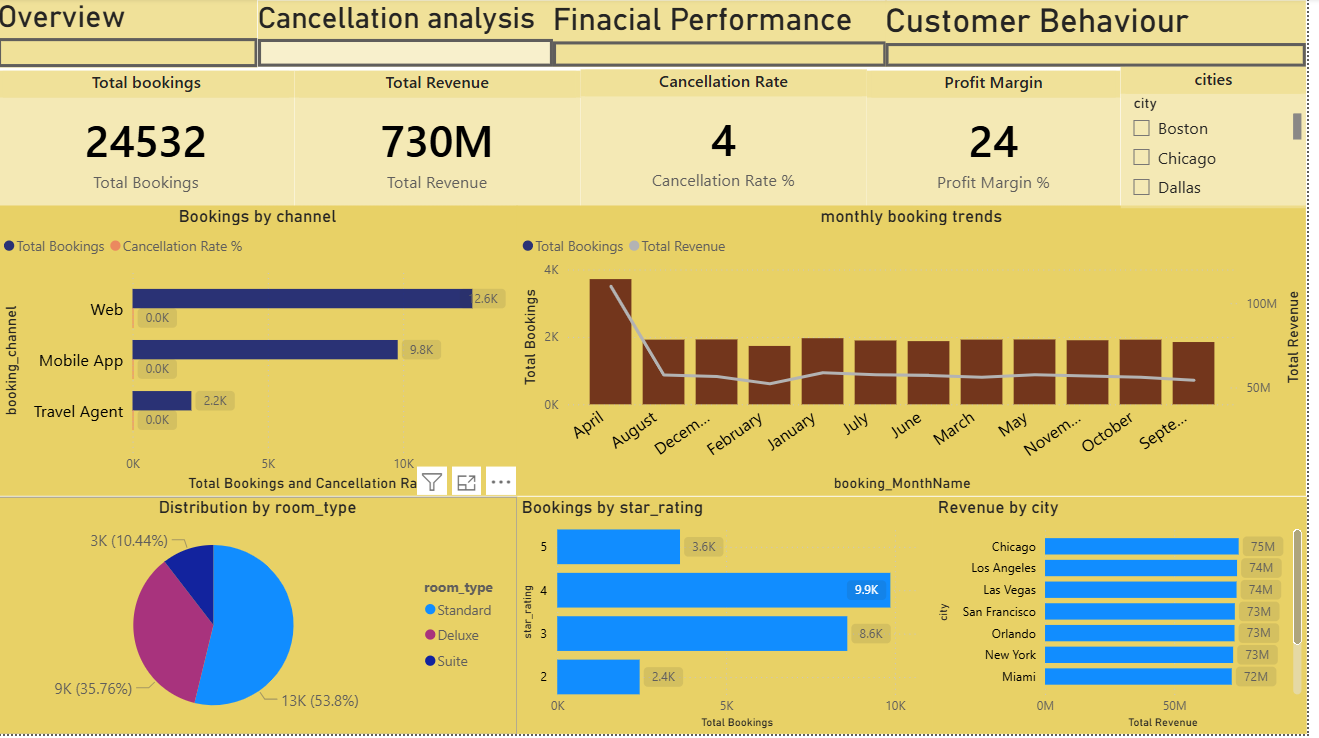

Layout of this report page (visuals, bound fields, positions):
{"tool":"powerbi","page":{"name":"Overview","canvas":[1280,720],"ordinal":0},"visuals":[{"type":"card","title":"Total bookings","fields":{"Values":["_Measures.Total Bookings"]},"box":[0,70.7,290,135.6],"z":0},{"type":"card","title":"Total Revenue","fields":{"Values":["_Measures.Total Revenue"]},"box":[290,70.7,279.9,135.6],"z":1000},{"type":"card","title":"Cancellation Rate","fields":{"Values":["_Measures.Cancellation Rate %"]},"box":[569.9,69.3,279.9,135.6],"z":2000},{"type":"card","title":"Profit Margin","fields":{"Values":["_Measures.Profit Margin %"]},"box":[849.8,70.7,248.2,135.6],"z":3000},{"type":"clusteredBarChart","title":"Bookings  by  channel","fields":{"Y":["_Measures.Total Bookings","_Measures.Cancellation Rate %"],"Category":["Hotels Booking.booking_channel"]},"box":[0,203.4,507.9,284.2],"z":4000},{"type":"pieChart","title":"Distribution by room_type","fields":{"Y":["_Measures.Total Bookings"],"Category":["Hotels Booking.room_type"]},"box":[0,487.7,507.9,232.3],"z":5000},{"type":"lineClusteredColumnComboChart","title":"monthly booking trends","fields":{"Y2":["_Measures.Total Revenue"],"Y":["_Measures.Total Bookings"],"Category":["Hotels Booking.booking_MonthName"]},"box":[507.9,203.4,771.9,284.2],"z":6000},{"type":"clusteredBarChart","title":" Bookings by star_rating","fields":{"Category":["Hotels Booking.star_rating"],"Y":["_Measures.Total Bookings"]},"box":[507.9,487.7,406.9,232.3],"z":7000},{"type":"clusteredBarChart","title":" Revenue by city","fields":{"Category":["Hotels Booking.city"],"Y":["_Measures.Total Revenue"]},"box":[914.7,487.9,365.6,232.3],"z":8000},{"type":"slicer","title":"cities","fields":{"Values":["Hotels Booking.city"]},"box":[1097.9,67.8,181.8,138.5],"z":9000},{"type":"actionButton","title":"Cancellation analysis","box":[253.9,2.9,288.6,64.9],"z":9002},{"type":"actionButton","title":"Finacial Performance","box":[542.5,2.9,326.1,64.9],"z":9003},{"type":"actionButton","title":"Customer Behaviour","box":[868.5,2.9,411.2,64.9],"z":9004},{"type":"actionButton","title":"Overview","box":[0,0,253.9,67.8],"z":9005}]}

Visuals, with their boxes in screenshot pixels (x1, y1, x2, y2), scaled from the page's 1280x720 canvas onto the 1319x738 screenshot:
"Total bookings" card: pyautogui.locateOnScreen(0, 72, 299, 211)
"Total Revenue" card: pyautogui.locateOnScreen(299, 72, 587, 211)
"Cancellation Rate" card: pyautogui.locateOnScreen(587, 71, 876, 210)
"Profit Margin" card: pyautogui.locateOnScreen(876, 72, 1131, 211)
"Bookings  by  channel" clusteredBarChart: pyautogui.locateOnScreen(0, 208, 523, 500)
"Distribution by room_type" pieChart: pyautogui.locateOnScreen(0, 500, 523, 737)
"monthly booking trends" lineClusteredColumnComboChart: pyautogui.locateOnScreen(523, 208, 1318, 500)
" Bookings by star_rating" clusteredBarChart: pyautogui.locateOnScreen(523, 500, 943, 737)
" Revenue by city" clusteredBarChart: pyautogui.locateOnScreen(943, 500, 1318, 737)
"cities" slicer: pyautogui.locateOnScreen(1131, 69, 1318, 211)
"Cancellation analysis" actionButton: pyautogui.locateOnScreen(262, 3, 559, 69)
"Finacial Performance" actionButton: pyautogui.locateOnScreen(559, 3, 895, 69)
"Customer Behaviour" actionButton: pyautogui.locateOnScreen(895, 3, 1318, 69)
"Overview" actionButton: pyautogui.locateOnScreen(0, 0, 262, 69)
